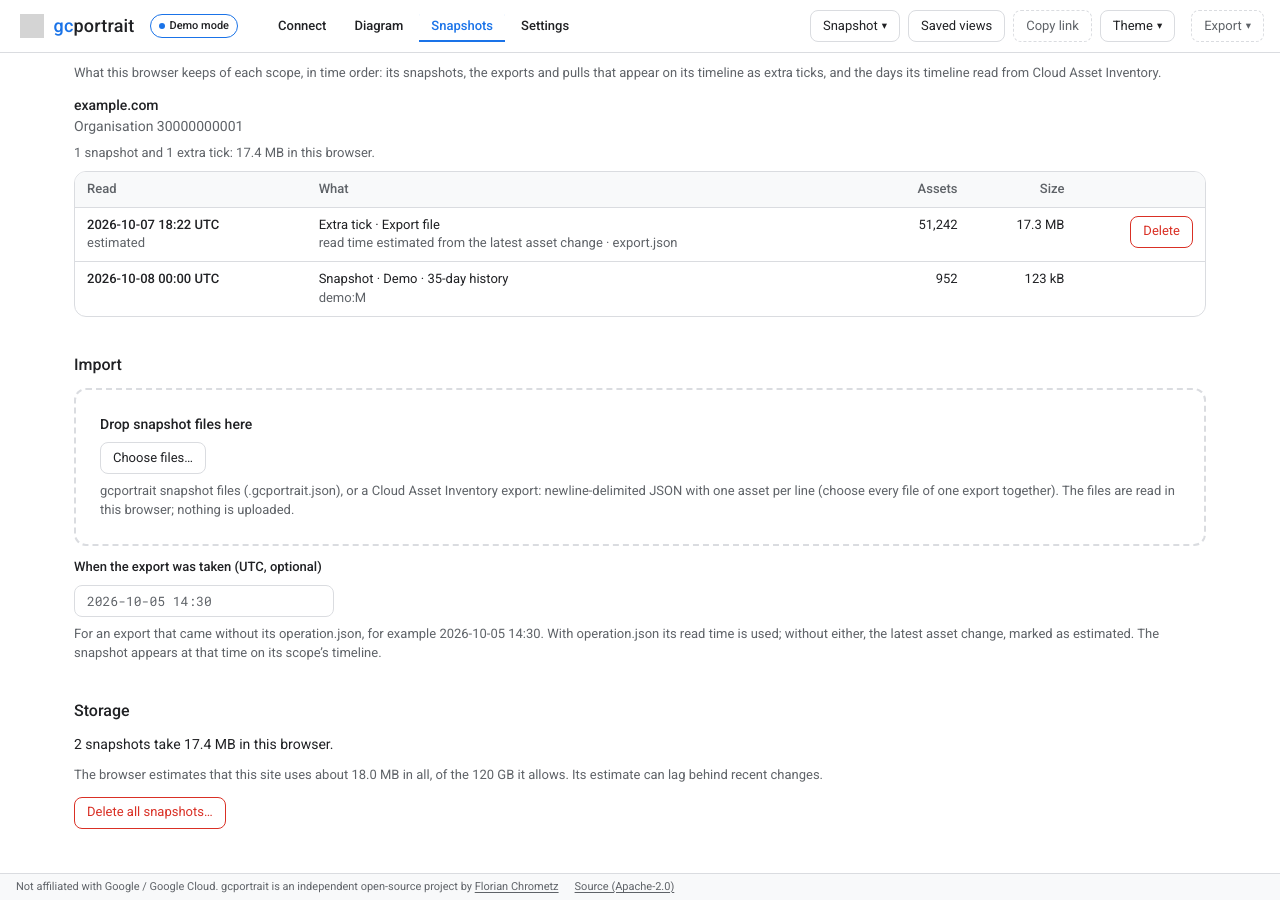
Test case: the Snapshots page › deletes every snapshot after confirmation
The width and height of the screenshot is (1280, 900).
(page scrolled)
Click the button "Delete all snapshots…" at (150,813), box [74,797,226,829]
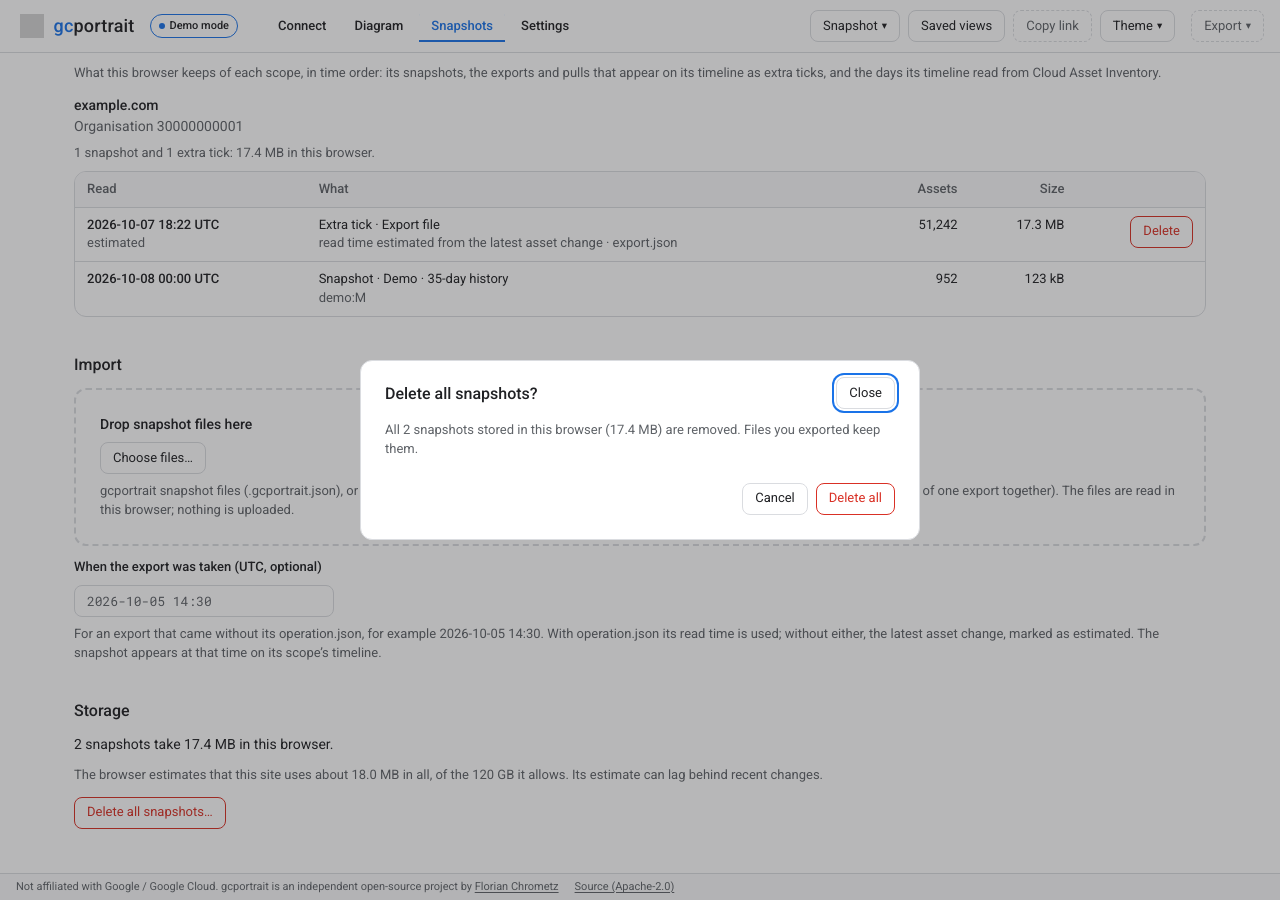
Check: the dialog "Delete all snapshots?" shows "All 2 snapshots stored in this browser (17.4 MB) are removed.", box [385,422,880,456]
Click the button "Delete all" at (855,499), box [816,483,895,515]
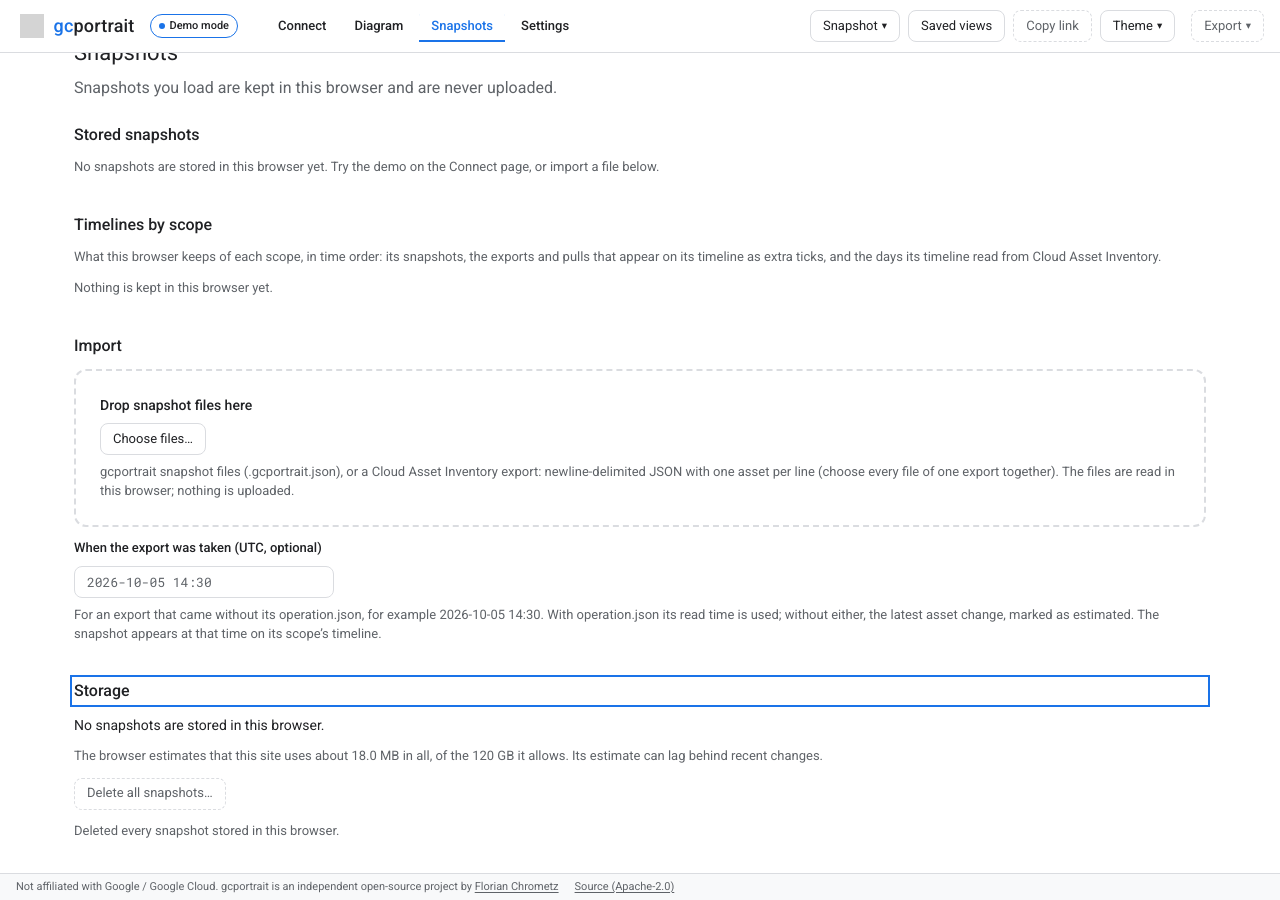
Check: the text "No snapshots are stored in this browser yet." is shown, box [74,159,659,174]
